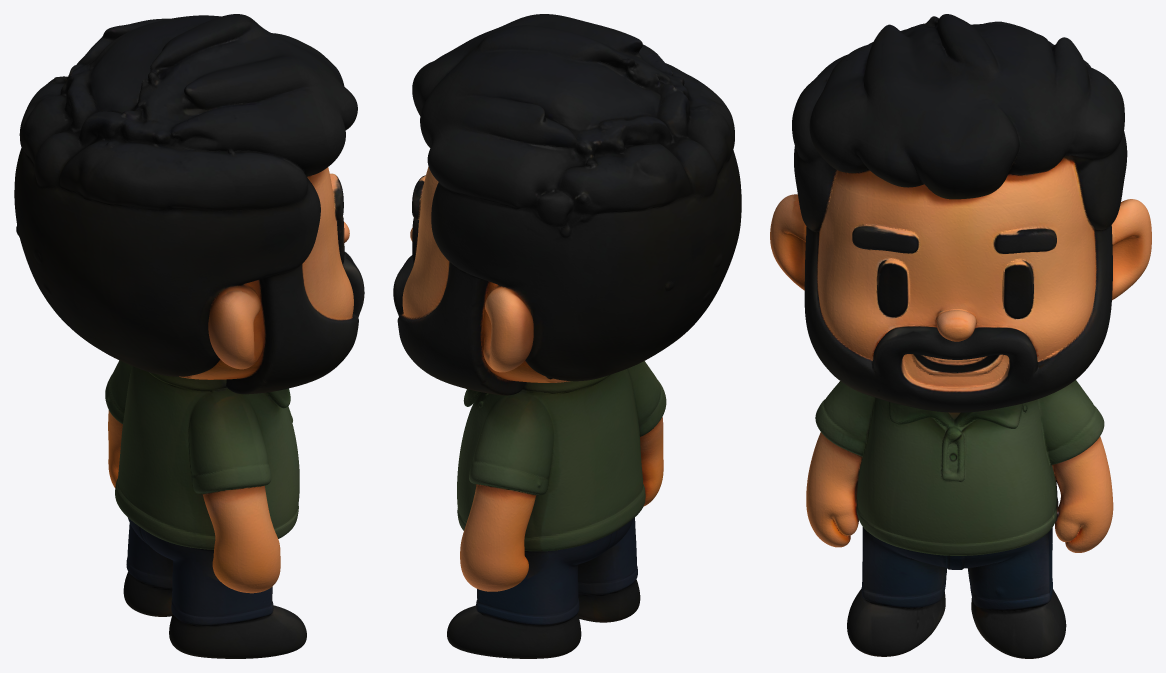
The model's file is 3d+character+model.glb.
The picture shows the model from 3 angles, left to right: view 1: azimuth 30°, elevation 25°; view 2: azimuth 150°, elevation 25°; view 3: azimuth 270°, elevation 25°; orthographic projection.
Visible parts, largest first — view 1: tripo_node_be8403fd-749a-4608-a97a-870d0d03ee2e; view 2: tripo_node_be8403fd-749a-4608-a97a-870d0d03ee2e; view 3: tripo_node_be8403fd-749a-4608-a97a-870d0d03ee2e.
Part boxes in pixels (x1,y1,x2,y2): tripo_node_be8403fd-749a-4608-a97a-870d0d03ee2e: (14,14,364,658); tripo_node_be8403fd-749a-4608-a97a-870d0d03ee2e: (393,14,741,658); tripo_node_be8403fd-749a-4608-a97a-870d0d03ee2e: (770,14,1151,658).
Size of the model in its own units: 0.5402 by 1 by 0.5754.
Materials: 1 (1 with a texture image).
